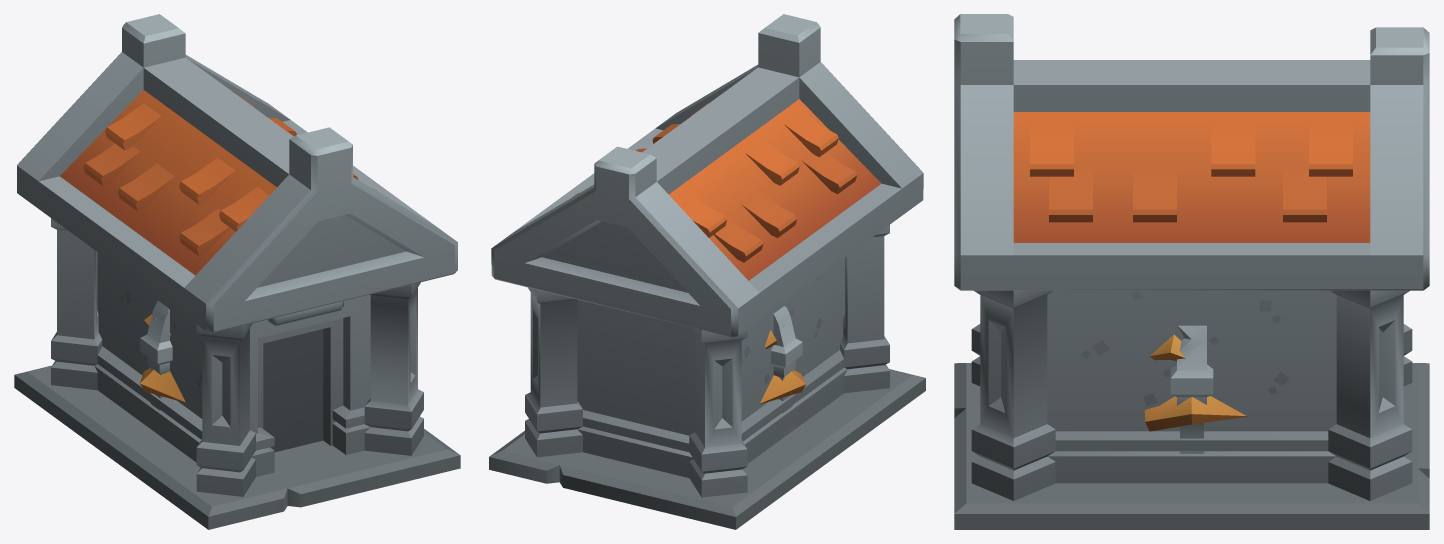
Rendered from world.glb.
3 renders of one model, left to right at view 1: azimuth 30°, elevation 25°; view 2: azimuth 150°, elevation 25°; view 3: azimuth 270°, elevation 25°, orthographic. The views are drawn at different scales.
Parts seen in each view (by area): view 1: crypt, Cube.632, tree_pine_yellow_large; view 2: crypt, Cube.632, tree_pine_yellow_large; view 3: crypt, Cube.632, tree_pine_yellow_large.
Boxes of the visible parts, <box> form: crypt: <box>14,14,460,529</box>; Cube.632: <box>140,300,172,435</box>; tree_pine_yellow_large: <box>140,314,185,402</box>; crypt: <box>489,14,925,529</box>; Cube.632: <box>771,306,802,436</box>; tree_pine_yellow_large: <box>760,325,805,404</box>; crypt: <box>954,14,1429,529</box>; Cube.632: <box>1170,325,1213,453</box>; tree_pine_yellow_large: <box>1144,334,1246,431</box>.
Size of the model in its own units: 6 by 8.55 by 8.
2 materials, 2 textured.
